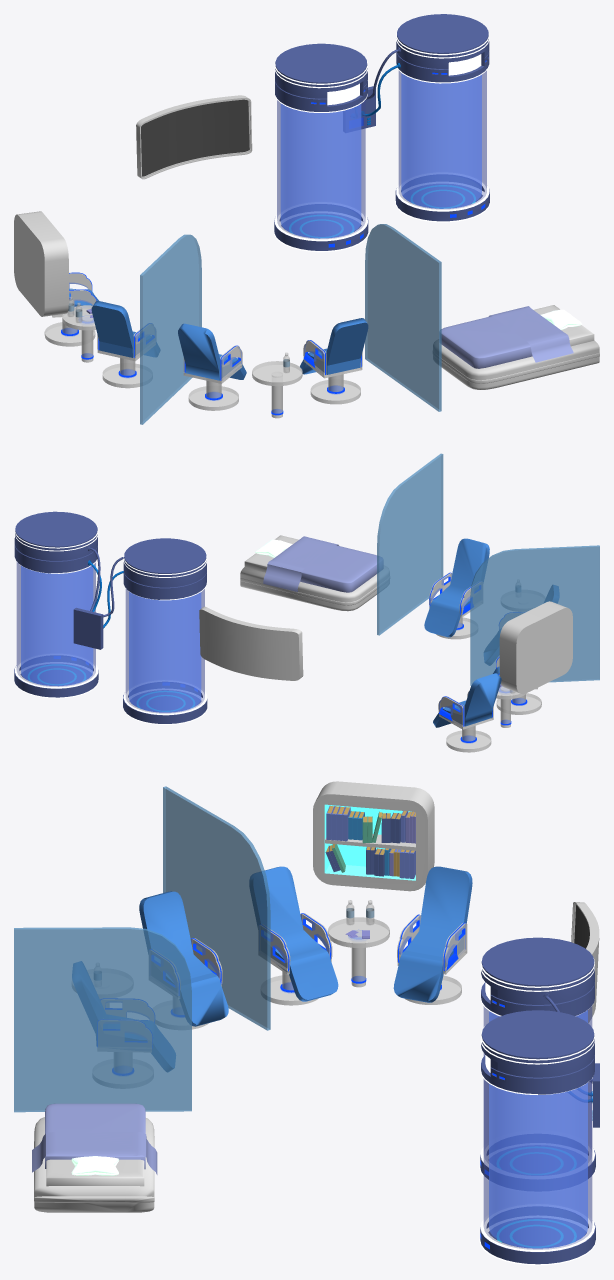
Rendered from salle_patient_amenage.fbx.
3 views of the same model, one above another, from view 1: azimuth 30°, elevation 25°; view 2: azimuth 150°, elevation 25°; view 3: azimuth 270°, elevation 25° (orthographic). The views are drawn at different scales.
Visible parts, largest first — view 1: tube_meduse, paroie2, eau_tube, eau_tube2, lit, paroie, TV, biblio_livres, fauteuil.001, fauteuil.002, fauteuil, fauteuil.004 (+2 smaller); view 2: tube_meduse, paroie, paroie2, eau_tube, lit, eau_tube2, TV, biblio_livres, fauteuil.002, fauteuil.004, fauteuil.001, table2 (+2 smaller); view 3: tube_meduse, paroie2, paroie, eau_tube2, lit, biblio_livres, fauteuil, fauteuil.001, fauteuil.004, fauteuil.002, table, TV (+1 smaller).
Boxes of the visible parts, x1=… form: tube_meduse: x1=273, y1=14, x2=490, y2=252; paroie2: x1=365, y1=224, x2=441, y2=411; eau_tube: x1=280, y1=104, x2=361, y2=238; eau_tube2: x1=401, y1=73, x2=481, y2=208; lit: x1=433, y1=305, x2=599, y2=389; paroie: x1=140, y1=234, x2=201, y2=424; TV: x1=136, y1=95, x2=252, y2=179; biblio_livres: x1=14, y1=211, x2=68, y2=316; fauteuil.001: x1=178, y1=323, x2=246, y2=410; fauteuil.002: x1=300, y1=318, x2=368, y2=404; fauteuil: x1=91, y1=301, x2=159, y2=388; fauteuil.004: x1=44, y1=272, x2=98, y2=346; tube_meduse: x1=14, y1=511, x2=208, y2=724; paroie: x1=470, y1=545, x2=599, y2=685; paroie2: x1=377, y1=453, x2=443, y2=635; eau_tube: x1=129, y1=591, x2=201, y2=712; lit: x1=240, y1=535, x2=389, y2=611; eau_tube2: x1=21, y1=565, x2=93, y2=686; TV: x1=199, y1=606, x2=303, y2=680; biblio_livres: x1=499, y1=601, x2=572, y2=694; fauteuil.002: x1=424, y1=538, x2=489, y2=639; fauteuil.004: x1=433, y1=673, x2=501, y2=752; fauteuil.001: x1=484, y1=585, x2=559, y2=665; table2: x1=501, y1=590, x2=544, y2=611; tube_meduse: x1=479, y1=937, x2=599, y2=1265; paroie2: x1=14, y1=927, x2=191, y2=1112; paroie: x1=163, y1=786, x2=270, y2=1030; eau_tube2: x1=489, y1=1083, x2=587, y2=1248; lit: x1=32, y1=1103, x2=157, y2=1212; biblio_livres: x1=313, y1=781, x2=434, y2=891; fauteuil: x1=249, y1=866, x2=338, y2=1005; fauteuil.001: x1=139, y1=891, x2=228, y2=1029; fauteuil.004: x1=393, y1=866, x2=472, y2=1004; fauteuil.002: x1=72, y1=961, x2=175, y2=1088; table: x1=328, y1=917, x2=389, y2=987; TV: x1=571, y1=902, x2=599, y2=1022.
Size of the model in its own units: 991 by 777 by 304.
